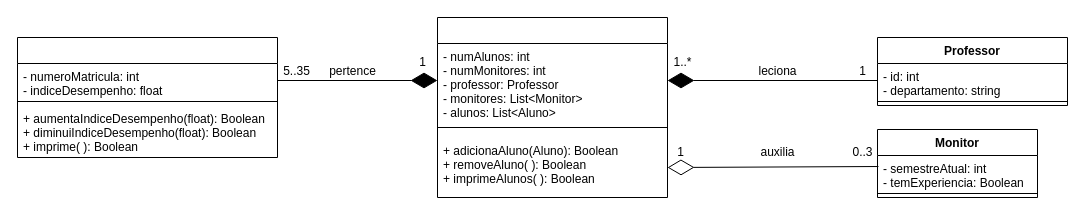
Image size: 1085x218. Some labels were removed from this diagram. Each missing label, with the box of its shape:
Aluno: (16, 36, 278, 158)
Turma: (436, 16, 668, 198)
